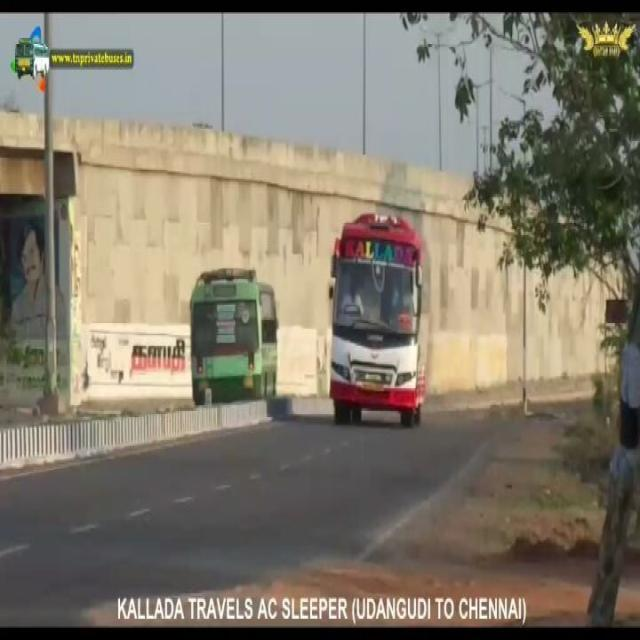Bus: (326, 209, 433, 428), (188, 265, 282, 405)
